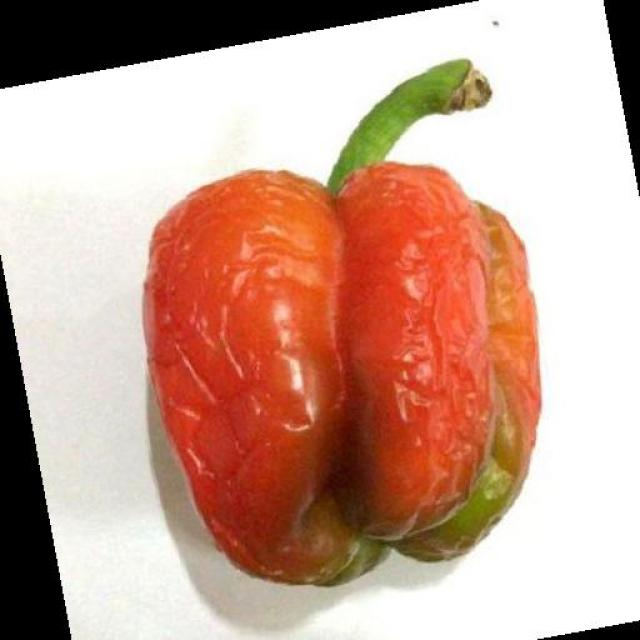Stale_Capsicum: (147, 142, 554, 593)
